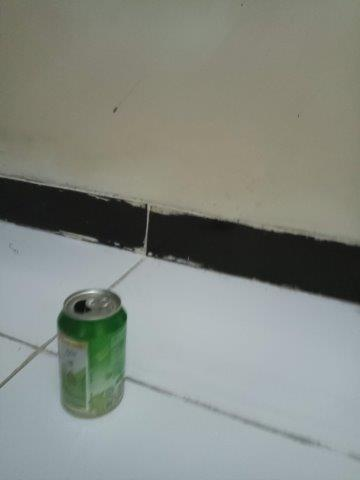kaleng: (57, 289, 127, 419)
